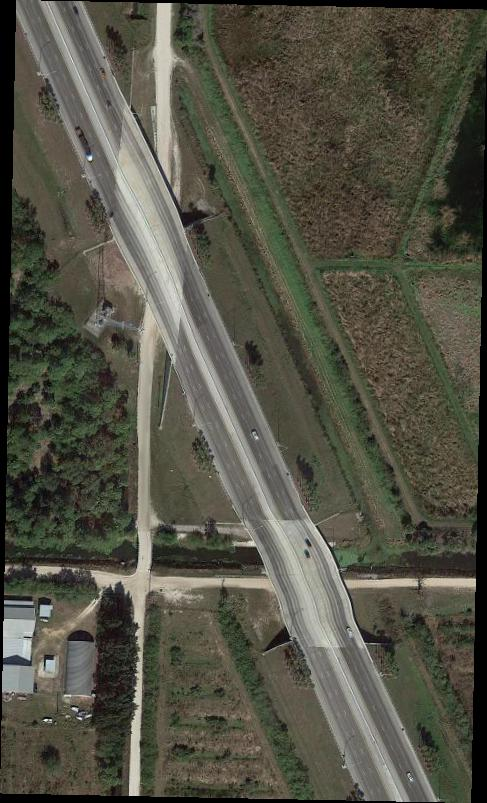ship: (71, 706, 82, 714), (42, 718, 54, 725), (79, 711, 89, 717)
